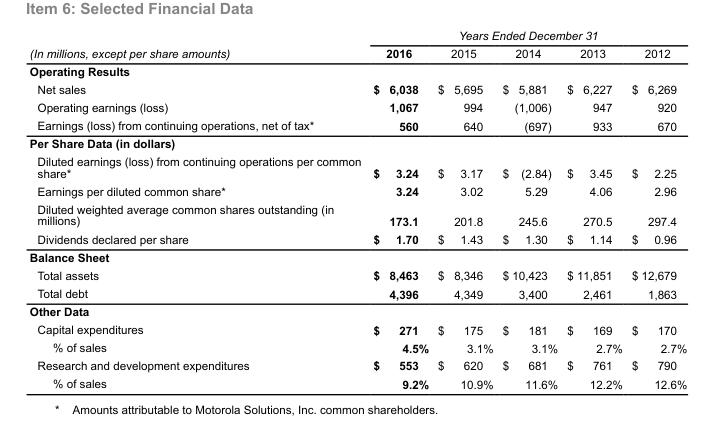table: (28, 28, 686, 390)
table column: (28, 28, 366, 390), (366, 28, 432, 390), (432, 28, 497, 390), (561, 28, 626, 390), (497, 28, 561, 390), (626, 28, 686, 390)
table column header: (28, 28, 686, 61)
table projected row header: (28, 61, 686, 79), (28, 247, 686, 265), (28, 134, 686, 151), (28, 302, 686, 319)
table row: (28, 151, 686, 182), (28, 200, 686, 229), (28, 79, 686, 98), (28, 265, 686, 284), (28, 319, 686, 338), (28, 61, 686, 79), (28, 98, 686, 116), (28, 116, 686, 134), (28, 182, 686, 200), (28, 229, 686, 247), (28, 247, 686, 265), (28, 284, 686, 302), (28, 338, 686, 356), (28, 356, 686, 374), (28, 44, 686, 61), (28, 134, 686, 151), (28, 302, 686, 319), (28, 28, 686, 44), (28, 374, 686, 390)
table spanning cell: (28, 28, 366, 61), (366, 28, 686, 44)
